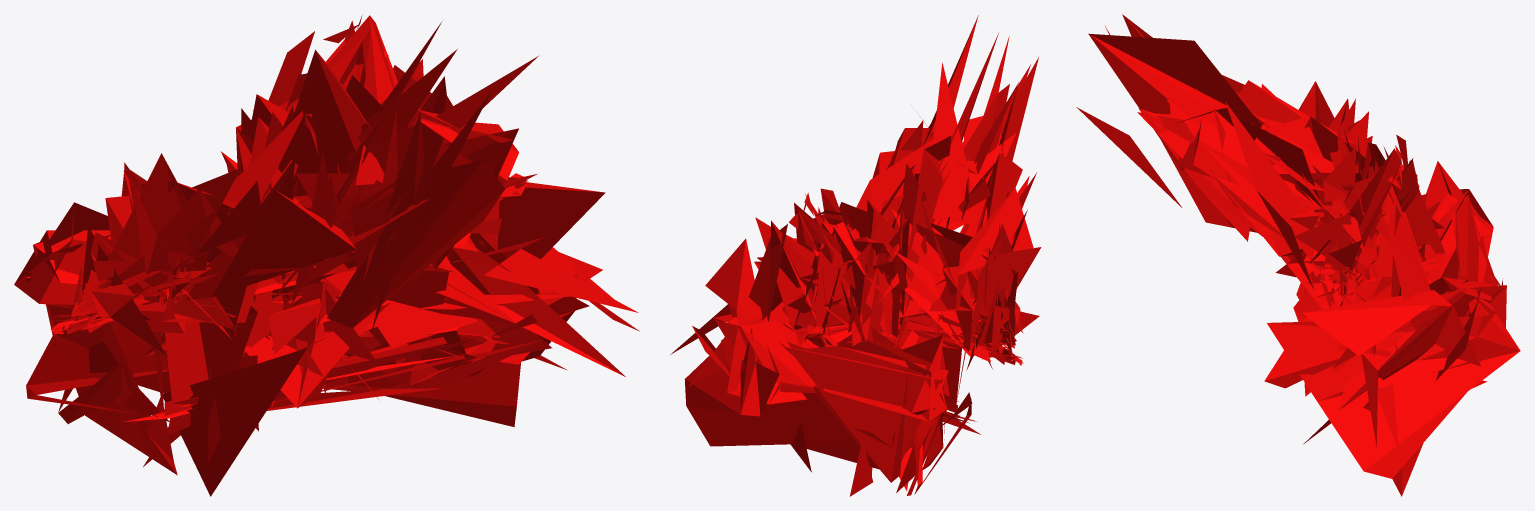
The picture shows the model from 3 angles, left to right: view 1: azimuth 30°, elevation 25°; view 2: azimuth 150°, elevation 25°; view 3: azimuth 270°, elevation 25°; orthographic projection. The views are drawn at different scales.
Visible parts, largest first — view 1: Renderer Node; view 2: Renderer Node; view 3: Renderer Node.
Part boxes in pixels (x1,y1,x2,y2): Renderer Node: (14, 15, 639, 496); Renderer Node: (670, 15, 1041, 496); Renderer Node: (1076, 14, 1520, 496).
Size of the model in its own units: 0.6495 by 0.6403 by 0.6594.
1 material, 1 textured.
